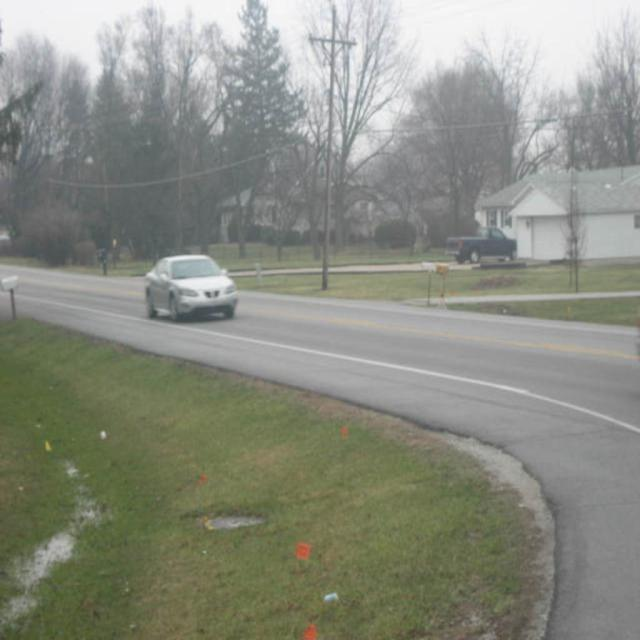car: (136, 242, 235, 315)
